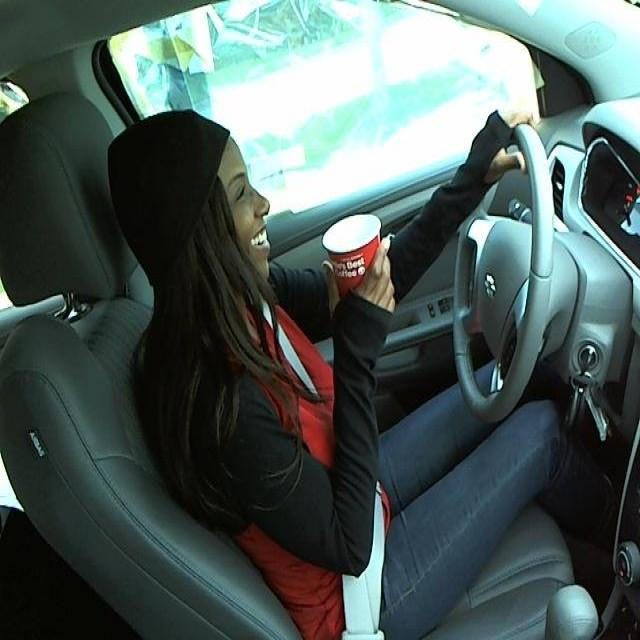drinking: (321, 211, 394, 325)
